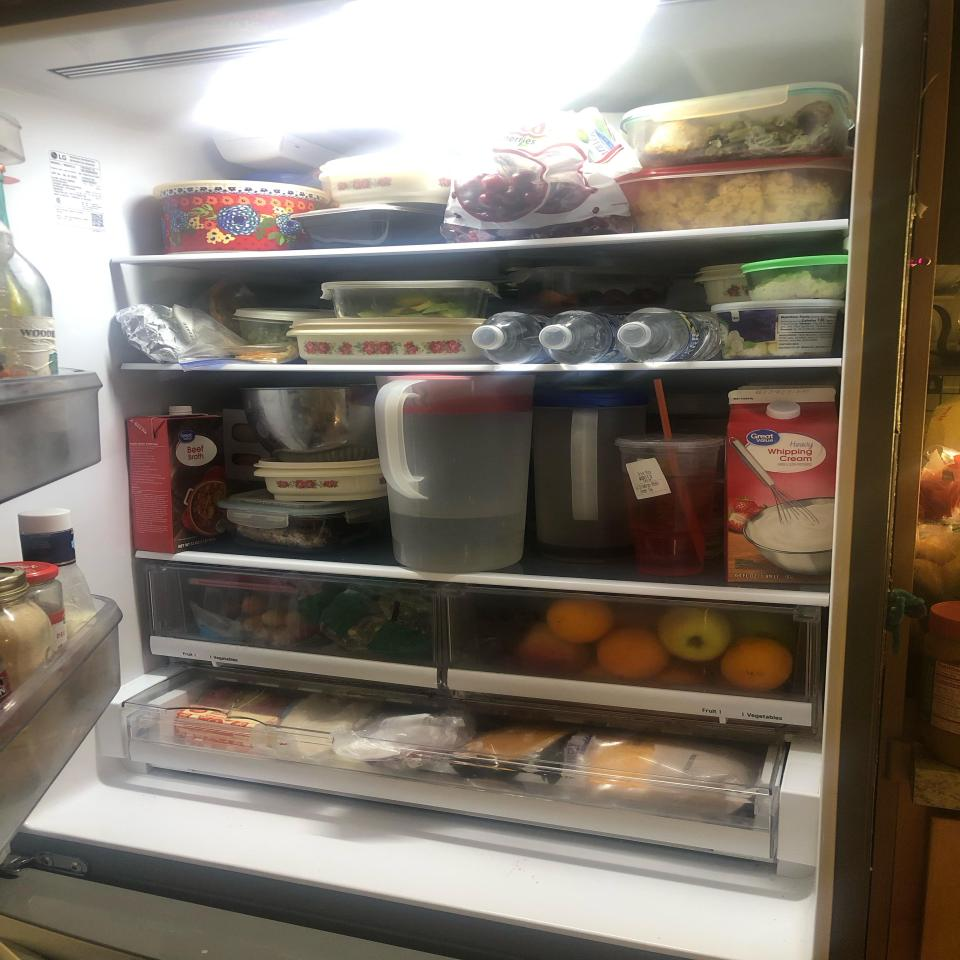Manzana: (659, 609, 731, 661)
